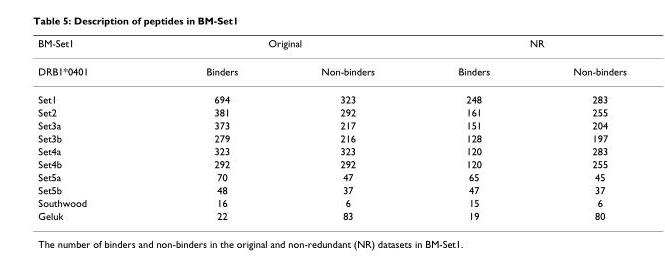table: (37, 36, 626, 221)
table column: (278, 36, 415, 221), (146, 36, 278, 221), (415, 36, 530, 221), (37, 36, 146, 221), (530, 36, 626, 221)
table column header: (37, 36, 626, 84)
table row: (37, 56, 626, 84), (37, 84, 626, 105), (37, 36, 626, 56), (37, 105, 626, 118), (37, 118, 626, 131), (37, 131, 626, 144), (37, 144, 626, 157), (37, 157, 626, 170), (37, 170, 626, 183), (37, 183, 626, 196), (37, 196, 626, 209), (37, 209, 626, 221)
table spanning cell: (146, 36, 415, 56), (37, 36, 146, 84), (415, 36, 626, 56)
